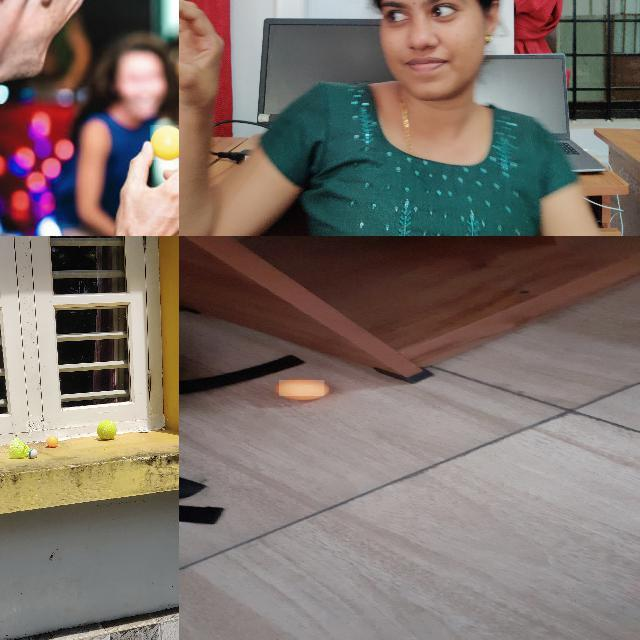ping-pong-ball: (149, 125, 178, 162), (278, 379, 326, 396), (46, 435, 58, 447)
